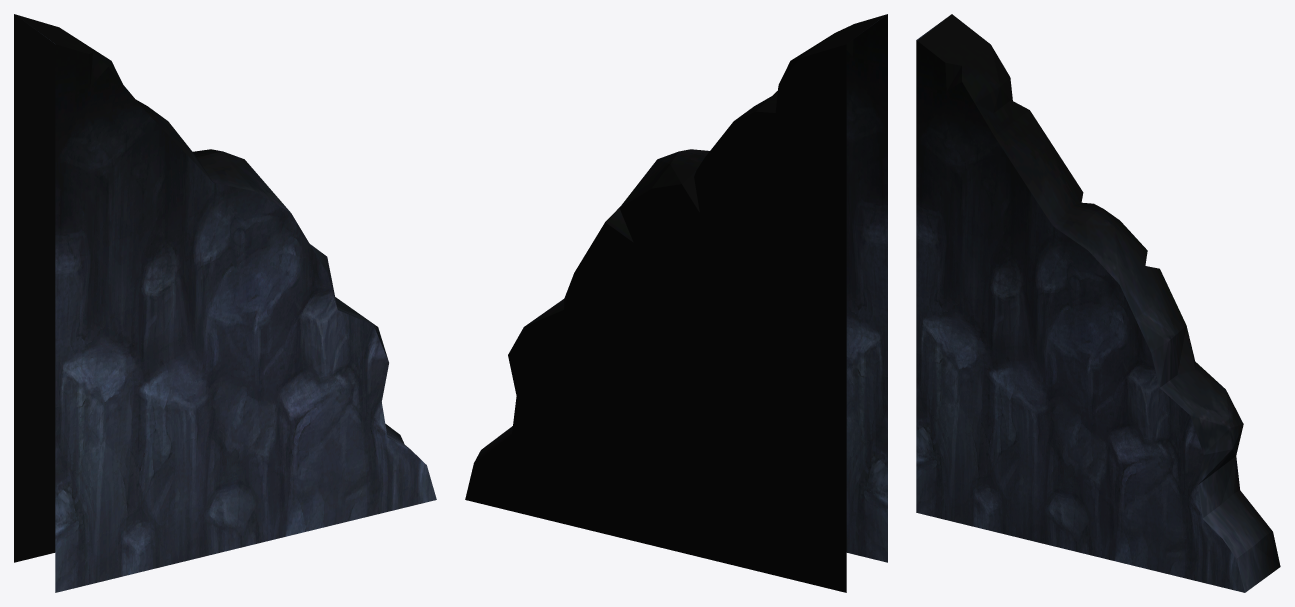
Rendered from mine_fade_transition_07.fbx.
The picture shows the model from 3 angles, left to right: view 1: azimuth 30°, elevation 25°; view 2: azimuth 150°, elevation 25°; view 3: azimuth 330°, elevation 25°; orthographic projection. The views are drawn at different scales.
Visible parts, largest first — view 1: mine_fade_transition_07-0; view 2: mine_fade_transition_07-0; view 3: mine_fade_transition_07-0.
Part boxes in pixels (x1,y1,x2,y2): mine_fade_transition_07-0: (14,14,436,592); mine_fade_transition_07-0: (465,14,887,592); mine_fade_transition_07-0: (916,14,1280,592).
Bounding box in the file's own units: 4 × 5.5 × 0.75.
